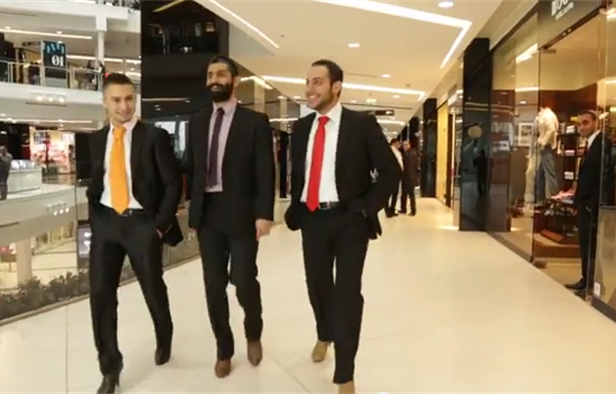feet: (79, 317, 177, 394), (306, 309, 360, 394), (200, 317, 266, 378), (567, 241, 606, 302), (380, 199, 403, 224), (396, 200, 418, 219)
